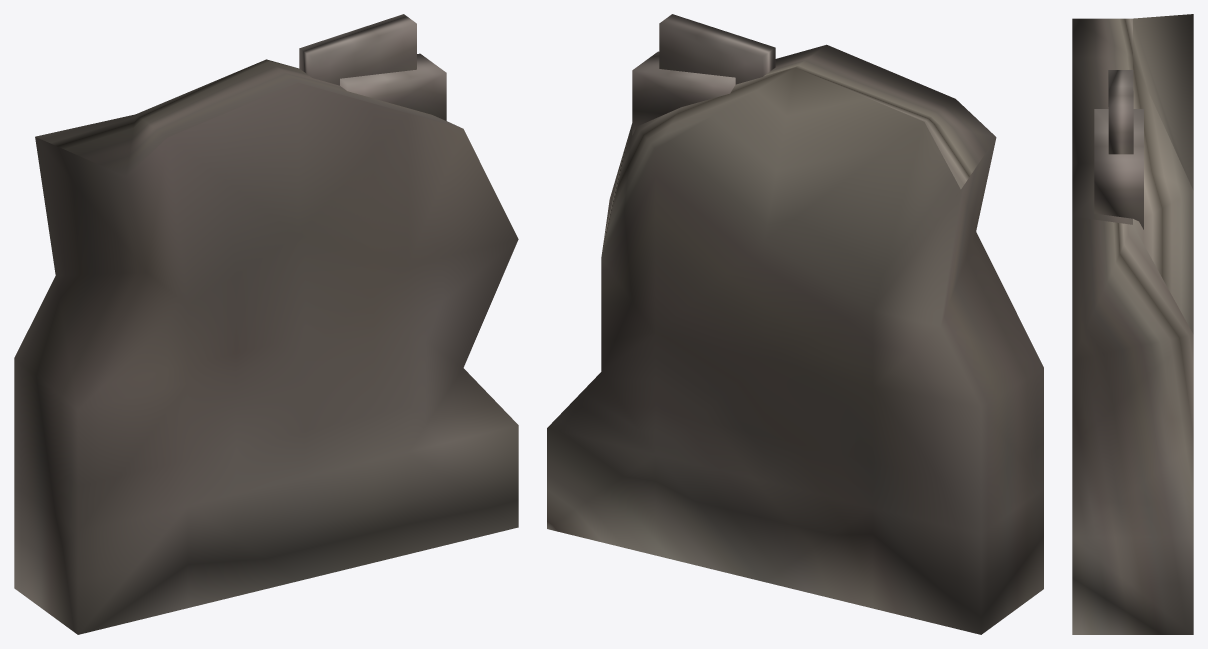
Rendered from ruin8.glb.
3 views of the same model, side by side, from view 1: azimuth 30°, elevation 25°; view 2: azimuth 150°, elevation 25°; view 3: azimuth 270°, elevation 25° (orthographic). The views are drawn at different scales.
Visible parts, largest first — view 1: ruin8; view 2: ruin8; view 3: ruin8.
Boxes of the visible parts, x1,y1,x2,y2 form: ruin8: (14,14,518,634); ruin8: (547,14,1043,634); ruin8: (1072,14,1193,634).
Bounding box in the file's own units: 4 × 4.43 × 1.
Materials: 1 (1 with a texture image).
